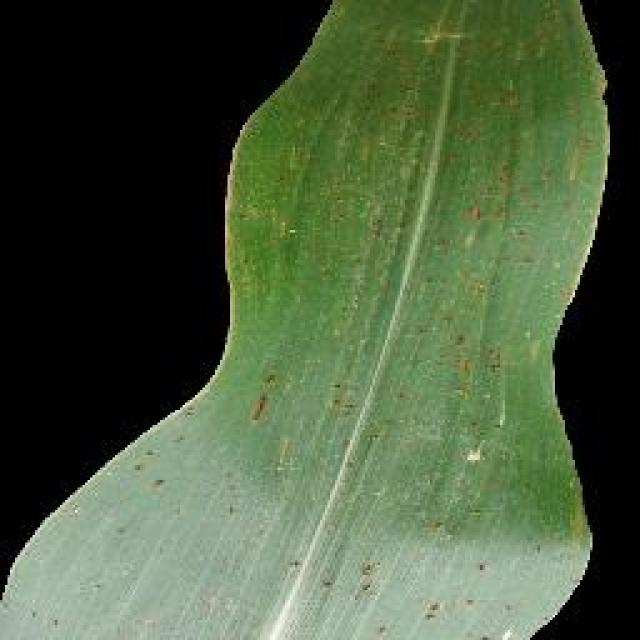Corn Common Rust: (262, 98, 516, 560)
